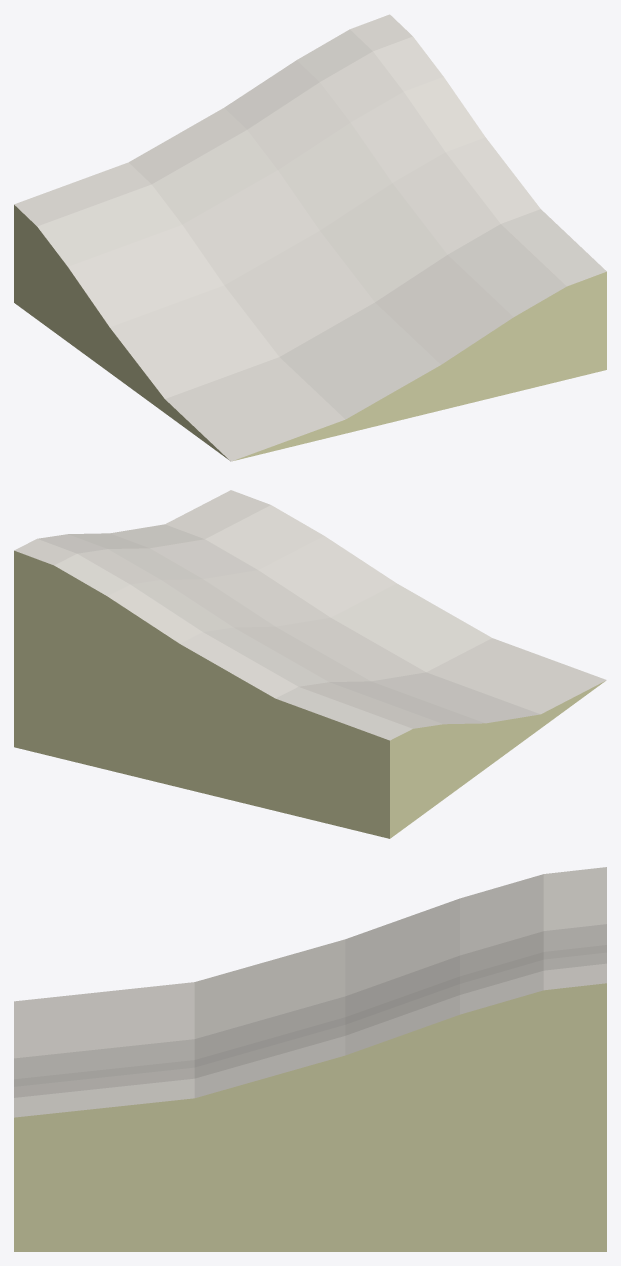
The model's file is Floor_Overlapping_4x4.glb.
The picture shows the model from 3 angles, top to bottom: view 1: azimuth 30°, elevation 25°; view 2: azimuth 150°, elevation 25°; view 3: azimuth 270°, elevation 25°; orthographic projection. The views are drawn at different scales.
Visible parts, largest first — view 1: Floor_Overlapping_4x4; view 2: Floor_Overlapping_4x4; view 3: Floor_Overlapping_4x4.
Boxes of the visible parts, left/top/right/bottom form: Floor_Overlapping_4x4: left=14, top=14, right=606, bottom=461; Floor_Overlapping_4x4: left=14, top=490, right=606, bottom=838; Floor_Overlapping_4x4: left=14, top=867, right=606, bottom=1251.
Bounding box in the file's own units: 400 × 200 × 400.
